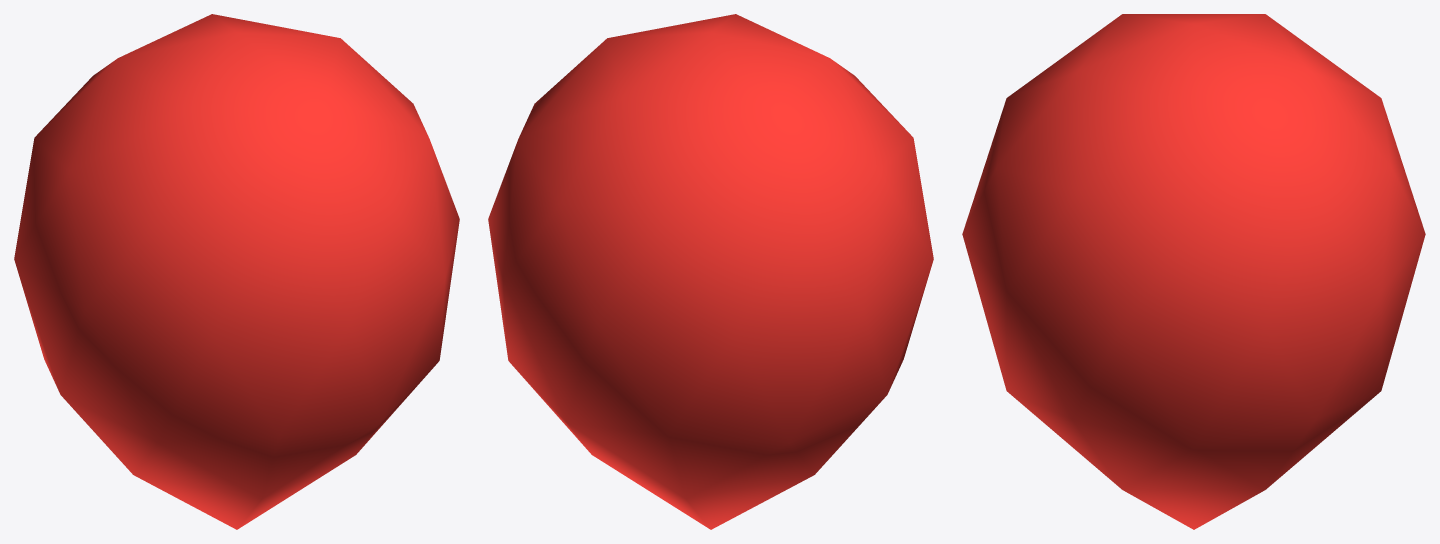
File: balloon.glb
3 views of the same model, side by side, from view 1: azimuth 30°, elevation 25°; view 2: azimuth 150°, elevation 25°; view 3: azimuth 270°, elevation 25° (orthographic).
Parts seen in each view (by area): view 1: Icosphere; view 2: Icosphere; view 3: Icosphere.
Part boxes in pixels (left/top/right/bottom): Icosphere: left=14, top=14, right=459, bottom=529; Icosphere: left=488, top=14, right=933, bottom=529; Icosphere: left=962, top=14, right=1425, bottom=529.
Size of the model in its own units: 1.9 by 2.41 by 2.
1 material, 1 textured.
